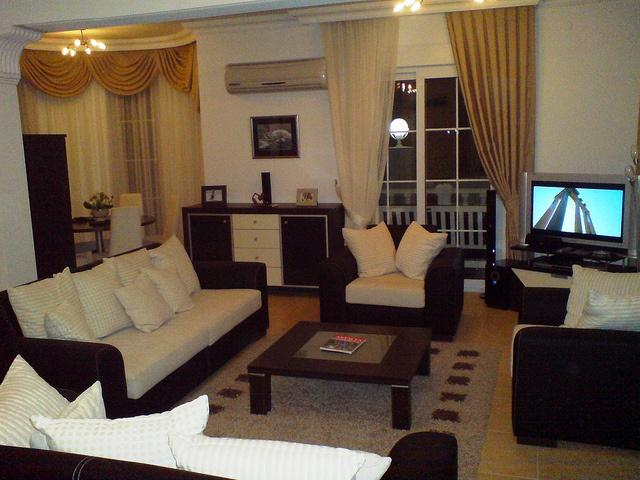AC: (224, 55, 328, 93)
AIO PC-Monitor-TV: (516, 170, 639, 258)
Meja: (245, 319, 432, 430)
